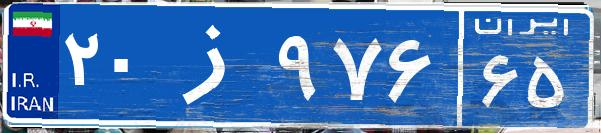0: (110, 28, 158, 105)
2: (57, 26, 110, 107)
5: (525, 38, 570, 115)
6: (385, 28, 445, 110), (475, 38, 525, 113)
7: (330, 28, 385, 110)
9: (273, 28, 330, 110)
ز: (158, 15, 273, 115)
